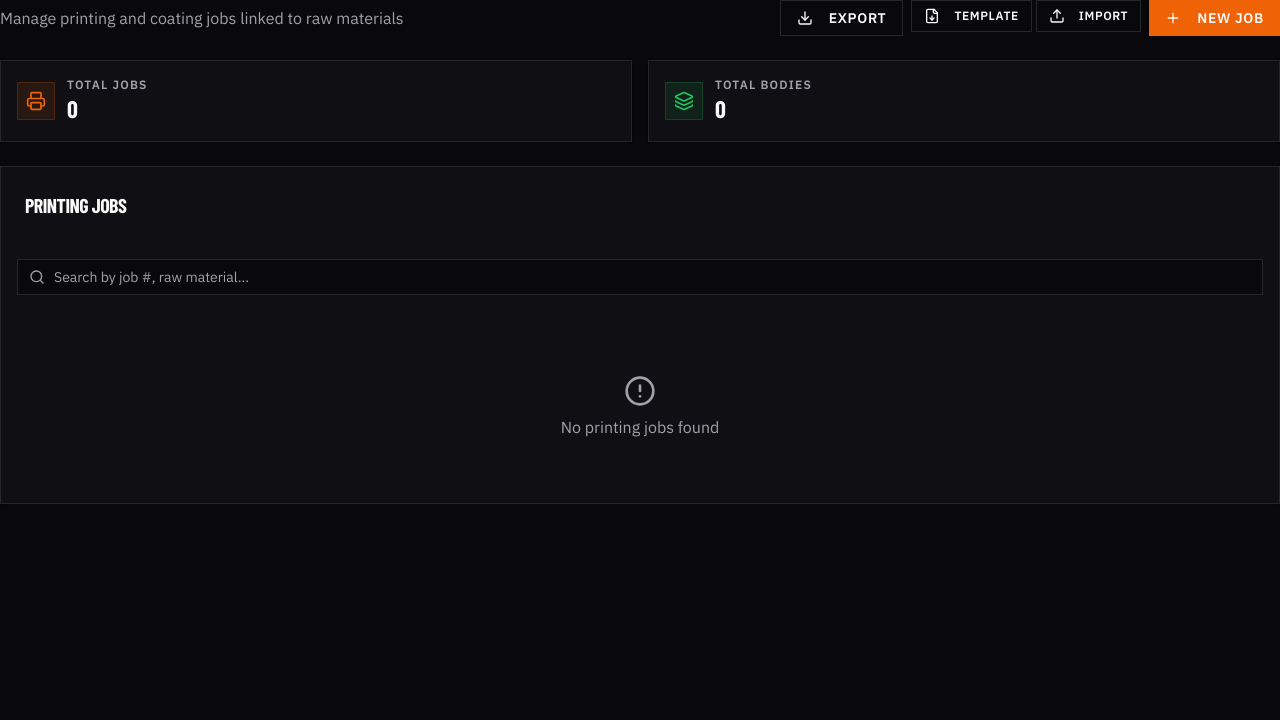
Scenario: Printing: the create dialog fields and staging row are labelled
The width and height of the screenshot is (1280, 720).
Click the button with test id "add-job-btn". click: [1215, 18]
box: [1149,0,1279,36]
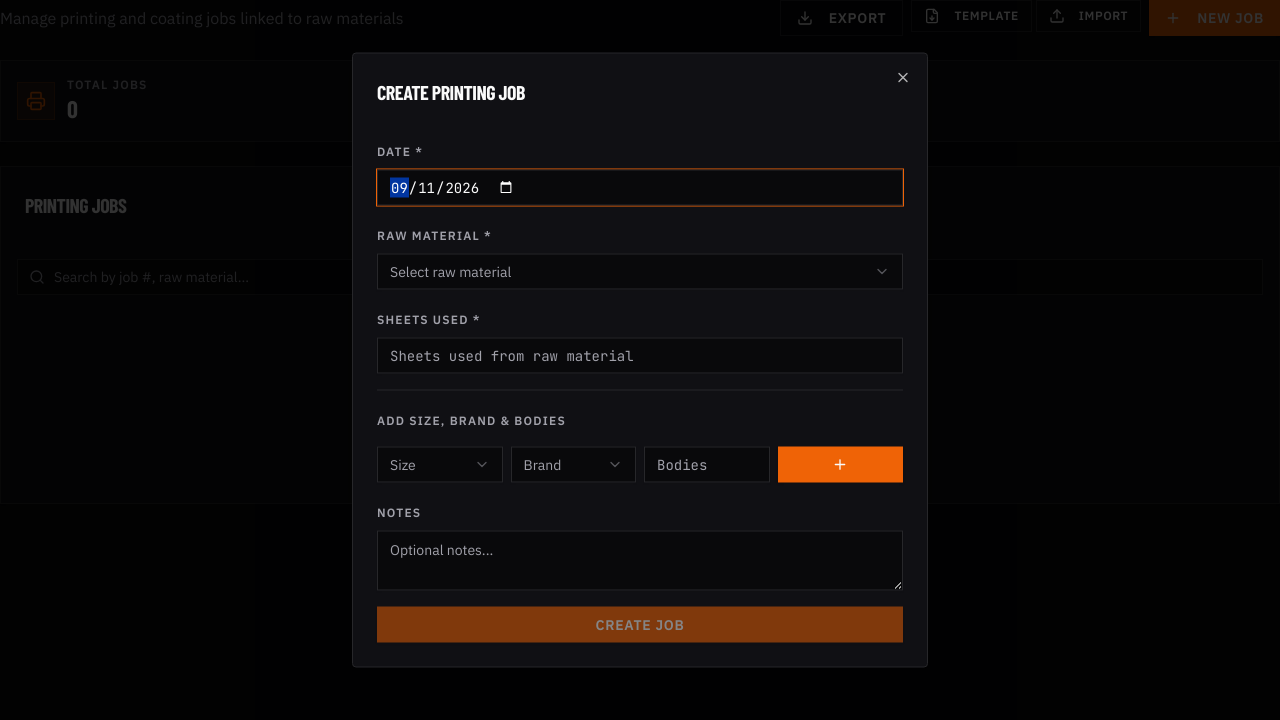
Expected: the date field with test id "job-date" is shown, [377,170,903,206]
